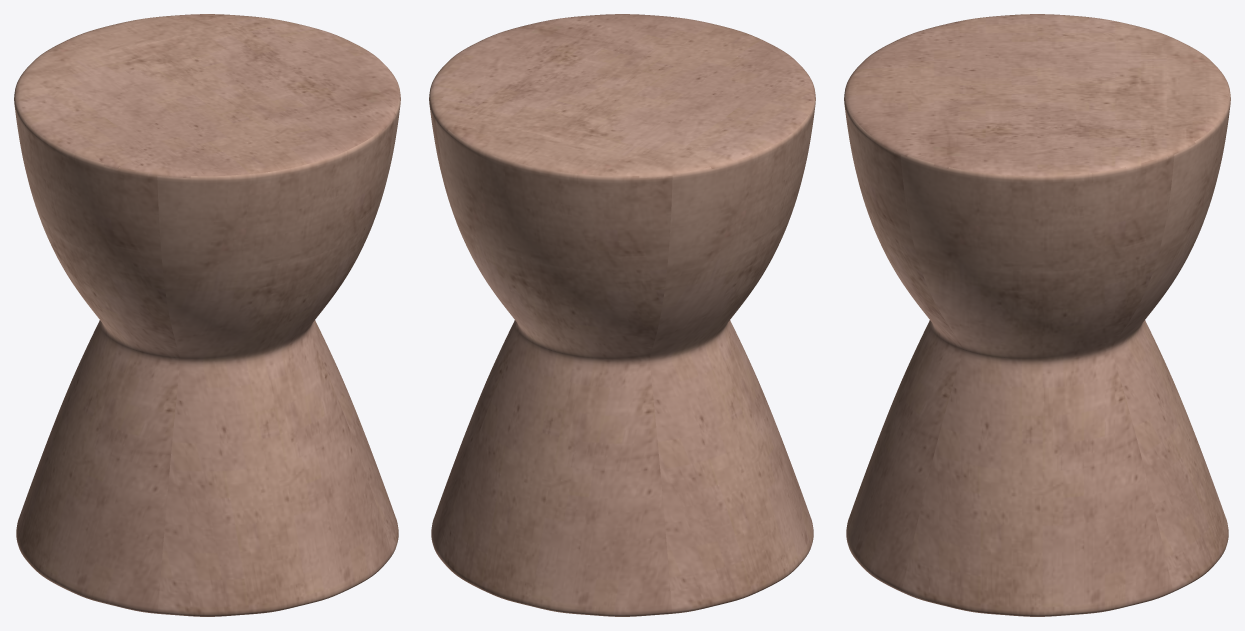
Rendered from MiomboSideTable.glb.
3 renders of one model, left to right at view 1: azimuth 30°, elevation 25°; view 2: azimuth 150°, elevation 25°; view 3: azimuth 270°, elevation 25°, orthographic.
Parts seen in each view (by area): view 1: Cylinder001; view 2: Cylinder001; view 3: Cylinder001.
Part boxes in pixels (x1,y1,x2,y2): Cylinder001: [14, 14, 400, 616]; Cylinder001: [429, 14, 815, 616]; Cylinder001: [844, 14, 1230, 616].
Bounding box in the file's own units: 0.4985 × 0.6382 × 0.4984.
1 material, 1 textured.
